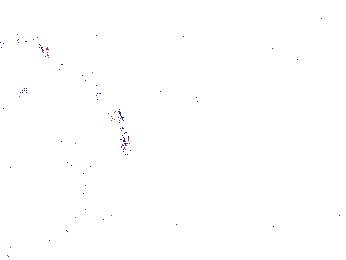X-ray fish: (239, 52, 264, 71), (275, 51, 288, 73)
glassfish: (75, 68, 135, 159)
redtail glassfish: (12, 32, 54, 59)
